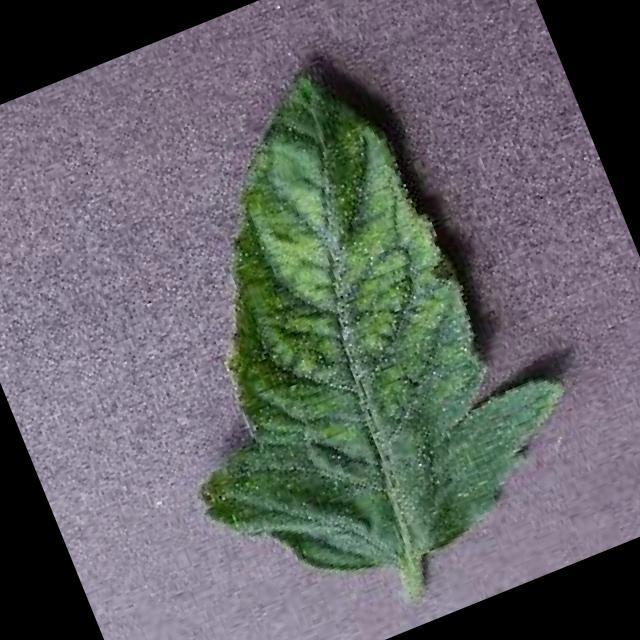Tomato mosaic virus leaf: (61, 15, 618, 628)
